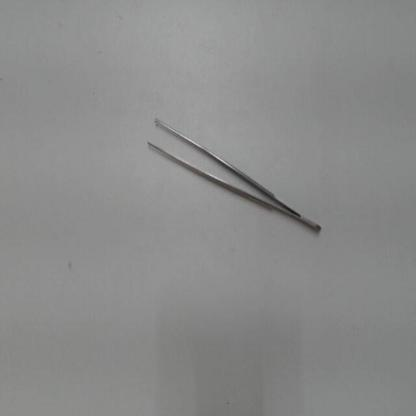Gillies Toothed Dissector: (142, 109, 330, 248)
